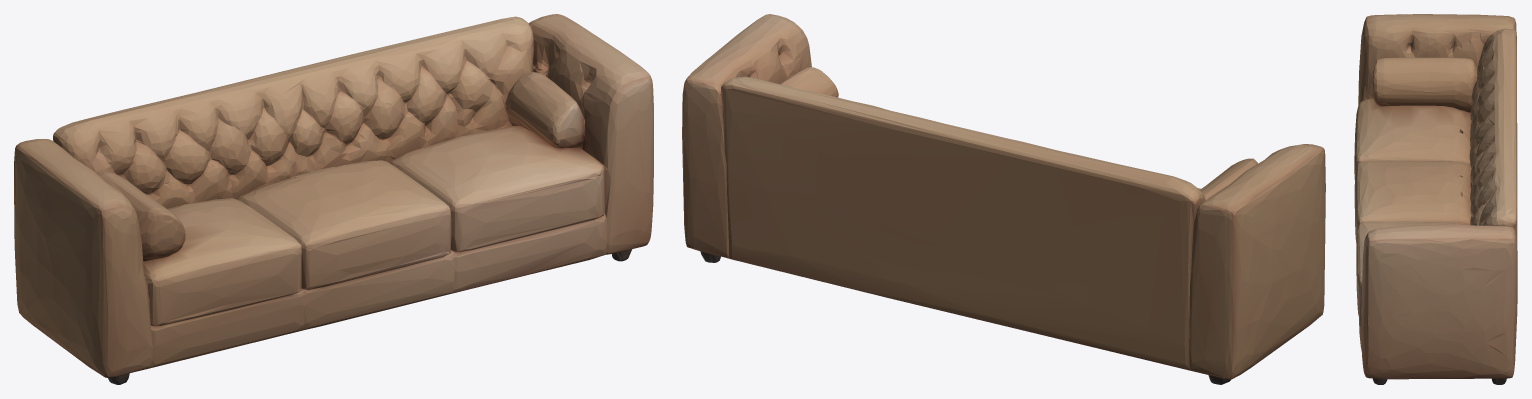
3 views of the same model, side by side, from view 1: azimuth 30°, elevation 25°; view 2: azimuth 150°, elevation 25°; view 3: azimuth 270°, elevation 25° (orthographic). The views are drawn at different scales.
Parts seen in each view (by area): view 1: geometry_0; view 2: geometry_0; view 3: geometry_0.
Boxes of the visible parts, x1,y1,x2,y2 form: geometry_0: [14, 14, 653, 384]; geometry_0: [682, 14, 1325, 384]; geometry_0: [1354, 14, 1517, 384].
Size of the model in its own units: 0.9985 by 0.3321 by 0.3011.
